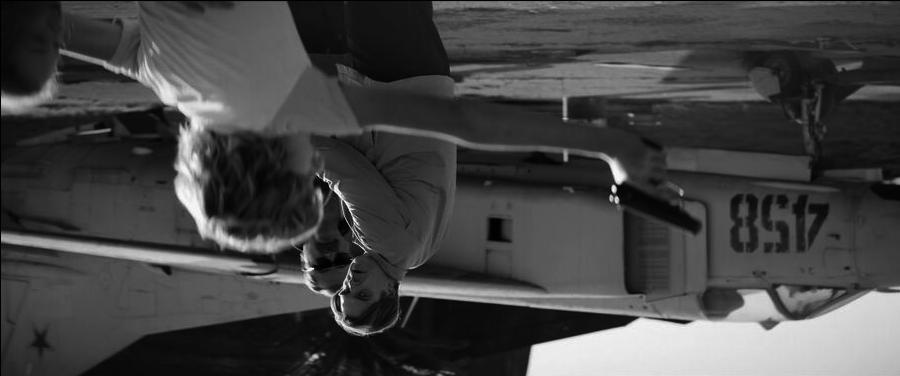gun: (604, 149, 706, 237)
